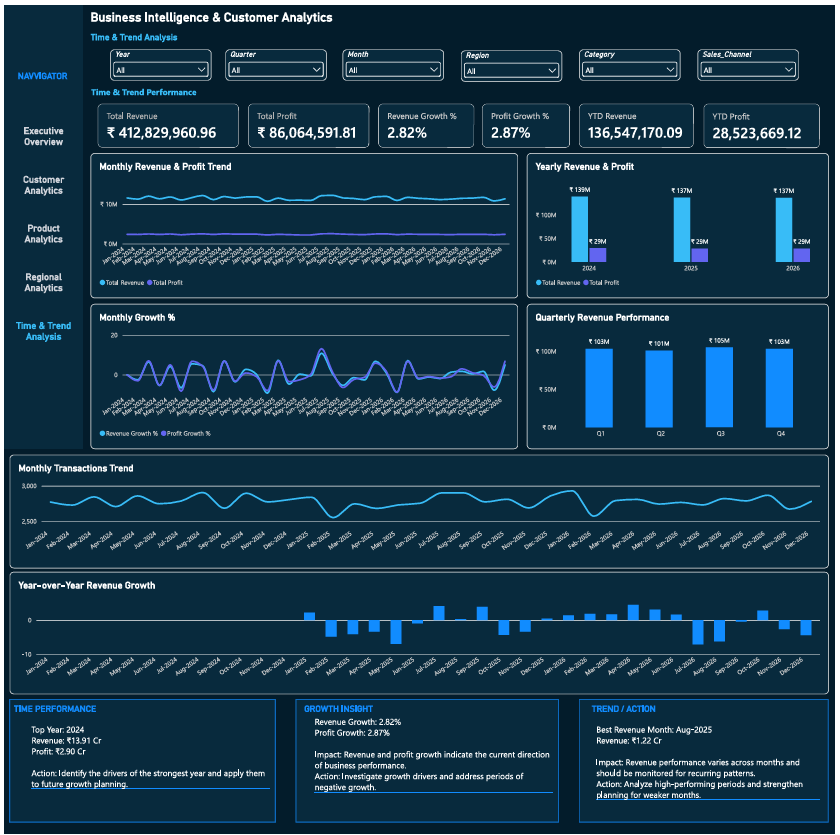

This screenshot's page, from the dashboard's own definition file:
{"tool":"powerbi","page":{"name":"Time & Trend Analysis","canvas":[1600,1600],"ordinal":4},"visuals":[{"type":"shape","box":[0,0,150,856.2],"z":0},{"type":"pageNavigator","box":[7.5,210,133.3,465.8],"z":1000},{"type":"textbox","box":[165,8.8,608,34],"z":2000},{"type":"textbox","box":[165,51.2,302.9,27.1],"z":3000},{"type":"slicer","fields":{"Values":["dim_date.Year"]},"box":[202.5,85,195,60],"z":4000},{"type":"slicer","fields":{"Values":["dim_date.Quarter"]},"box":[424.5,85,195,60],"z":5000},{"type":"slicer","fields":{"Values":["dim_date.Month"]},"box":[650.5,85,195,60],"z":6000},{"type":"slicer","fields":{"Values":["dim_geography.Region"]},"box":[878.5,87,195,60],"z":7000},{"type":"slicer","fields":{"Values":["dim_product.Category"]},"box":[1106.5,85,195,60],"z":8000},{"type":"slicer","fields":{"Values":["fact_transaction.Sales_Channel"]},"box":[1334.5,85,195,60],"z":9000},{"type":"cardVisual","fields":{"Data":["fact_transaction.Profit Growth Display"]},"box":[920,190,168.6,84.3],"z":10000},{"type":"cardVisual","fields":{"Data":["fact_transaction.YTD Revenue"]},"box":[1106.7,190,220,84.4],"z":11000},{"type":"cardVisual","fields":{"Data":["fact_transaction.Revenue Growth Display"]},"box":[720,190,184.3,84.3],"z":12000},{"type":"cardVisual","fields":{"Data":["fact_transaction.Total Revenue"]},"box":[178.9,190,271.1,84.4],"z":13000},{"type":"cardVisual","fields":{"Data":["fact_transaction.Total Profit"]},"box":[468.9,190,233.3,84.4],"z":14000},{"type":"cardVisual","fields":{"Data":["fact_transaction.YTD Profit"]},"box":[1347.5,190.4,222.9,84.3],"z":15000},{"type":"textbox","box":[165.6,155.6,224.3,24.3],"z":16000},{"type":"lineChart","title":"Monthly Revenue & Profit Trend","fields":{"Category":["dim_date.Year_Month"],"Y":["fact_transaction.Total Revenue","fact_transaction.Total Profit"]},"box":[165,285,823.8,280],"z":17000},{"type":"lineChart","title":"Monthly Growth %","fields":{"Category":["dim_date.Year_Month"],"Y":["fact_transaction.Revenue Growth %","fact_transaction.Profit Growth %"]},"box":[165,576.2,823.8,280],"z":18000},{"type":"clusteredColumnChart","title":"Yearly Revenue & Profit","fields":{"Category":["dim_date.Year"],"Y":["fact_transaction.Total Revenue","fact_transaction.Total Profit"]},"box":[1006.2,285,581.2,280],"z":19000},{"type":"lineChart","title":"Monthly Transactions Trend","fields":{"Category":["dim_date.Year_Month"],"Y":["fact_transaction.Total Transactions"]},"box":[8.9,866.7,1578.9,218.9],"z":20000},{"type":"clusteredColumnChart","title":"Quarterly Revenue Performance","fields":{"Category":["dim_date.Quarter"],"Y":["fact_transaction.Total Revenue"]},"box":[1006.2,576.2,581.2,280],"z":21000},{"type":"clusteredColumnChart","title":"Year-over-Year Revenue Growth","fields":{"Category":["dim_date.Year_Month"],"Y":["fact_transaction.Revenue YoY %"]},"box":[8.9,1093.3,1578.9,235.6],"z":22000},{"type":"shape","box":[8.6,1338.6,512.9,237.1],"z":23000},{"type":"shape","box":[561.4,1338.6,505.7,237.1],"z":24000},{"type":"shape","box":[1107.1,1338.6,480,237.1],"z":25000},{"type":"textbox","box":[17.1,1347.1,300,24.3],"z":26000},{"type":"textbox","box":[577.1,1347.1,300,24.3],"z":27000},{"type":"textbox","box":[1131.4,1347.1,300,24.3],"z":28000},{"type":"textbox","box":[51.4,1385.7,460,172.9],"z":29000},{"type":"textbox","box":[597.1,1371.4,460,172.9],"z":30000},{"type":"textbox","box":[1140,1385.7,430,172.9],"z":31000},{"type":"textbox","box":[6,126,133.3,30],"z":32000}]}

Visuals, with their boxes in screenshot pixels (x1, y1, x2, y2), scaled from the page's 1600x1600 canvas onto the 840x835 screenshot:
shape: [x1=0, y1=0, x2=79, y2=447]
pageNavigator: [x1=4, y1=110, x2=74, y2=353]
textbox: [x1=87, y1=5, x2=406, y2=22]
textbox: [x1=87, y1=27, x2=246, y2=41]
slicer - dim_date.Year: [x1=106, y1=44, x2=209, y2=76]
slicer - dim_date.Quarter: [x1=223, y1=44, x2=325, y2=76]
slicer - dim_date.Month: [x1=342, y1=44, x2=444, y2=76]
slicer - dim_geography.Region: [x1=461, y1=45, x2=564, y2=77]
slicer - dim_product.Category: [x1=581, y1=44, x2=683, y2=76]
slicer - fact_transaction.Sales_Channel: [x1=701, y1=44, x2=803, y2=76]
cardVisual - fact_transaction.Profit Growth Display: [x1=483, y1=99, x2=572, y2=143]
cardVisual - fact_transaction.YTD Revenue: [x1=581, y1=99, x2=697, y2=143]
cardVisual - fact_transaction.Revenue Growth Display: [x1=378, y1=99, x2=475, y2=143]
cardVisual - fact_transaction.Total Revenue: [x1=94, y1=99, x2=236, y2=143]
cardVisual - fact_transaction.Total Profit: [x1=246, y1=99, x2=369, y2=143]
cardVisual - fact_transaction.YTD Profit: [x1=707, y1=99, x2=824, y2=143]
textbox: [x1=87, y1=81, x2=205, y2=94]
"Monthly Revenue & Profit Trend" lineChart: [x1=87, y1=149, x2=519, y2=295]
"Monthly Growth %" lineChart: [x1=87, y1=301, x2=519, y2=447]
"Yearly Revenue & Profit" clusteredColumnChart: [x1=528, y1=149, x2=833, y2=295]
"Monthly Transactions Trend" lineChart: [x1=5, y1=452, x2=834, y2=567]
"Quarterly Revenue Performance" clusteredColumnChart: [x1=528, y1=301, x2=833, y2=447]
"Year-over-Year Revenue Growth" clusteredColumnChart: [x1=5, y1=571, x2=834, y2=694]
shape: [x1=5, y1=699, x2=274, y2=822]
shape: [x1=295, y1=699, x2=560, y2=822]
shape: [x1=581, y1=699, x2=833, y2=822]
textbox: [x1=9, y1=703, x2=166, y2=716]
textbox: [x1=303, y1=703, x2=460, y2=716]
textbox: [x1=594, y1=703, x2=751, y2=716]
textbox: [x1=27, y1=723, x2=268, y2=813]
textbox: [x1=313, y1=716, x2=555, y2=806]
textbox: [x1=598, y1=723, x2=824, y2=813]
textbox: [x1=3, y1=66, x2=73, y2=81]
